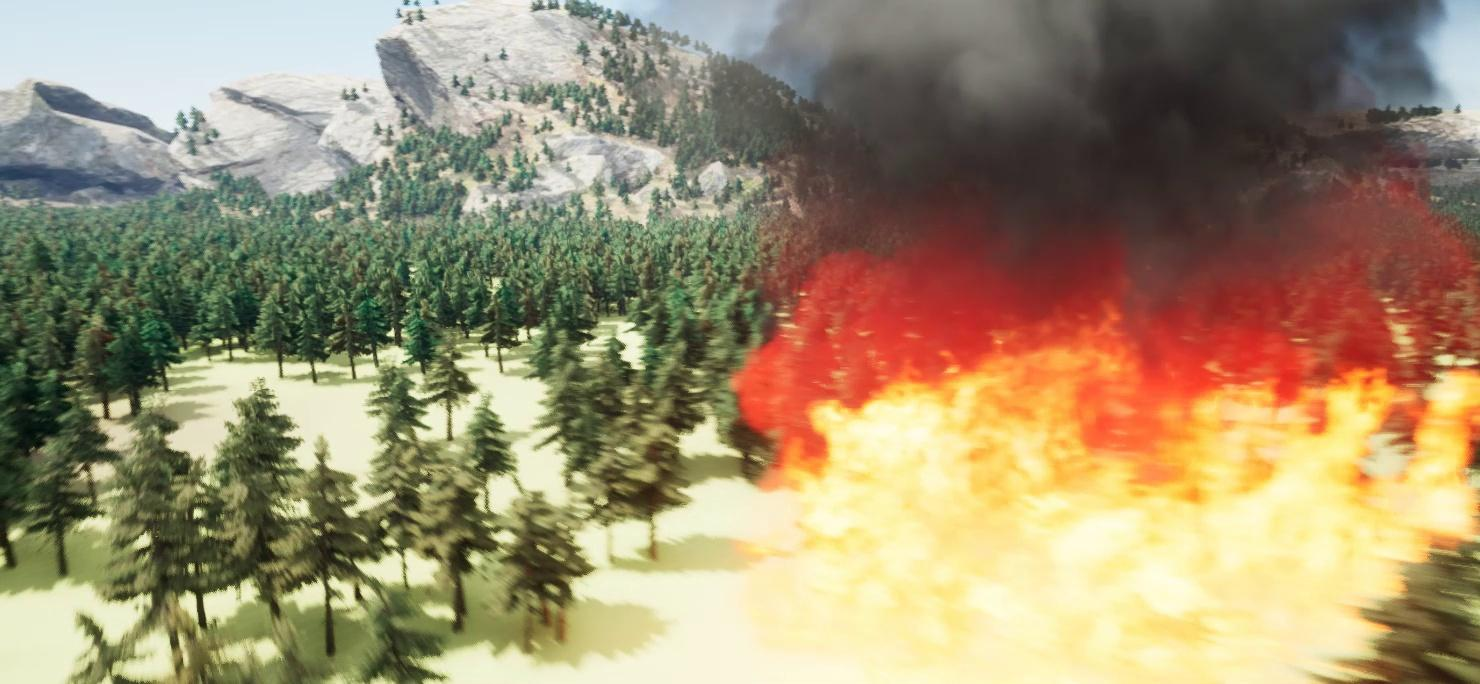fire: (735, 346, 1479, 683)
smoke: (710, 0, 1479, 341)
